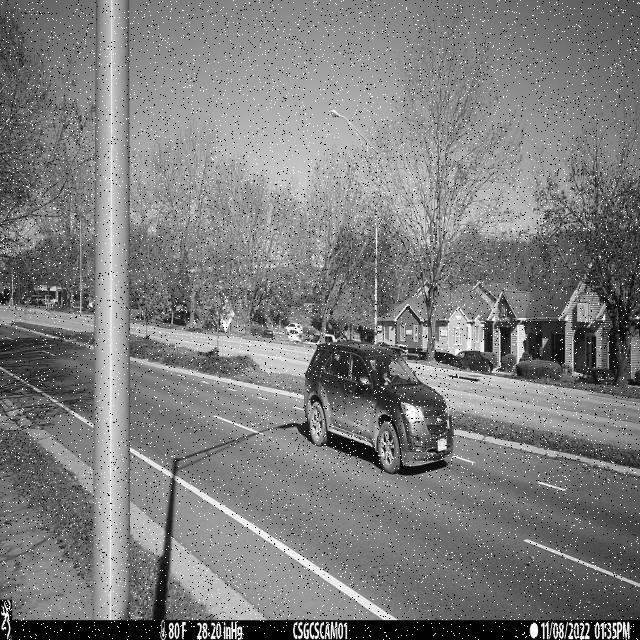SUV: (304, 343, 454, 474)
